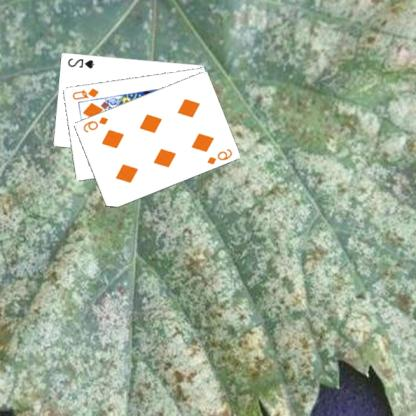2S: (67, 55, 97, 69)
6D: (206, 146, 235, 166), (82, 114, 112, 133)
QD: (71, 85, 102, 101)
